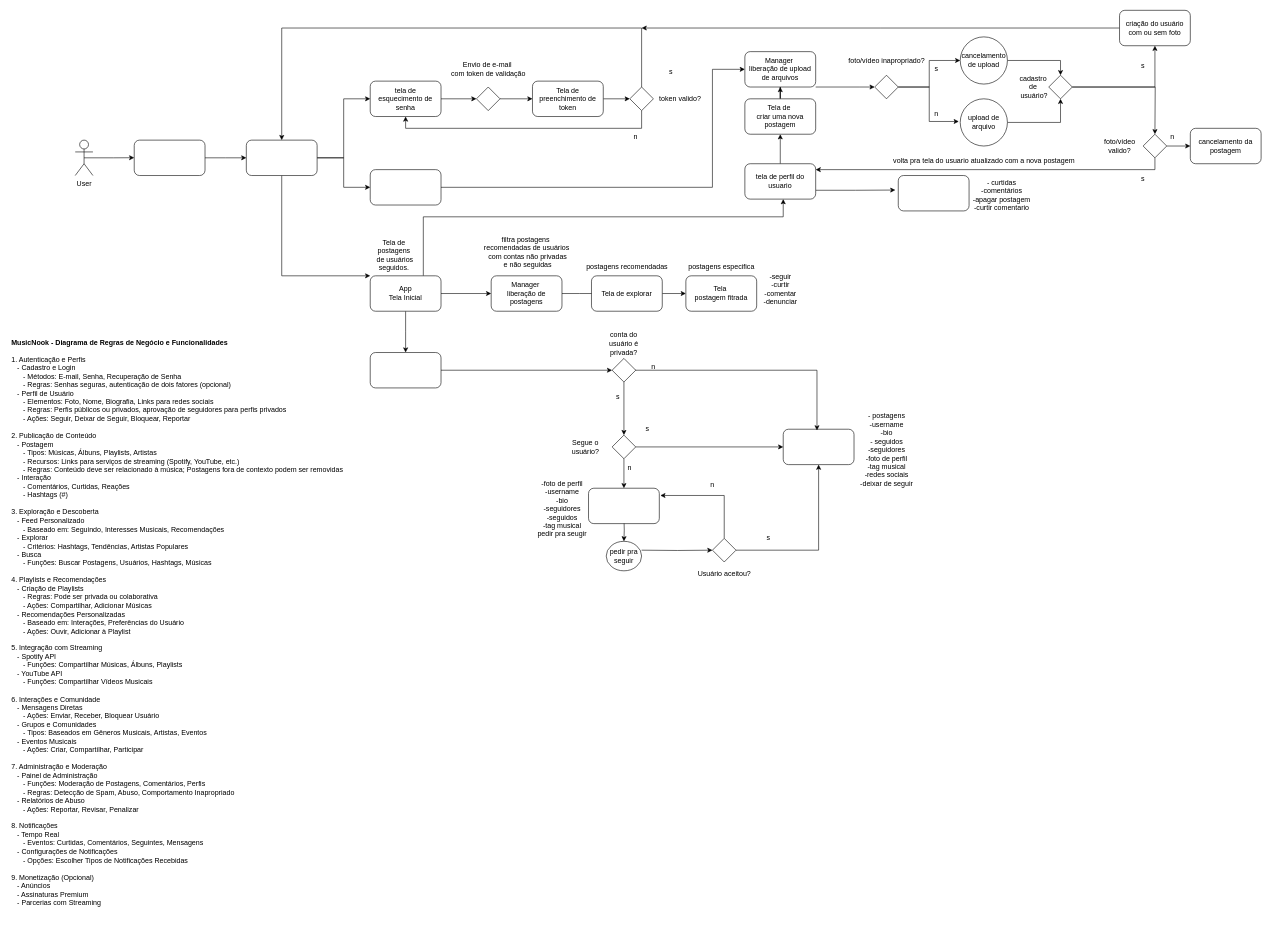
Some shapes in this 1271 by 929 pixel diagram are drawn without their labels. Each missing label, with the centre of its shape:
"Manager liberação de usuários" belongs at point 281,158.
"Tela de autenticação do usuário." belongs at point 169,158.
"Tela de cadastro" belongs at point 405,187.
"Tela de perfil do usuário" belongs at point 818,447.
"Tela de perfil do usuário minimalista" belongs at point 623,506.
"tela de postagem filtrada de postagem do usuario" belongs at point 933,193.
"Tela pesquisar um usuário especifico" belongs at point 405,370.
